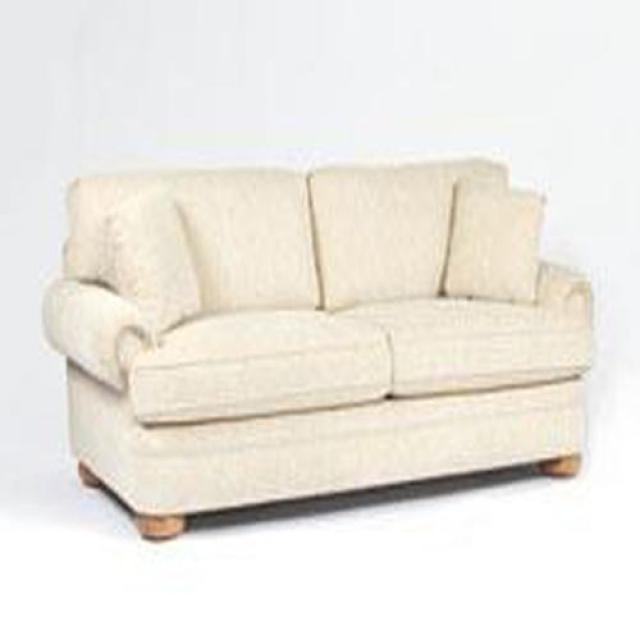sofa: (37, 160, 595, 544)
